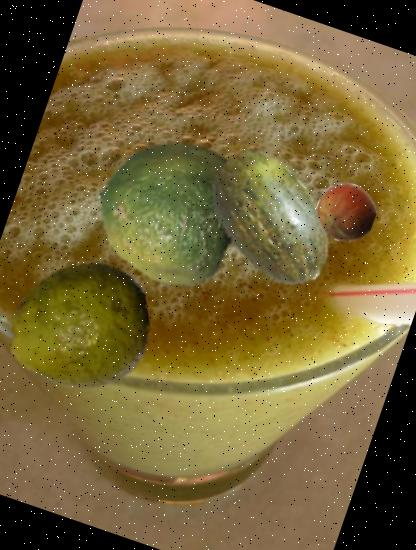Guava: (0, 236, 168, 416)
Limes: (78, 115, 268, 306)
Melon: (179, 125, 366, 312)
Nut: (308, 174, 384, 250)
